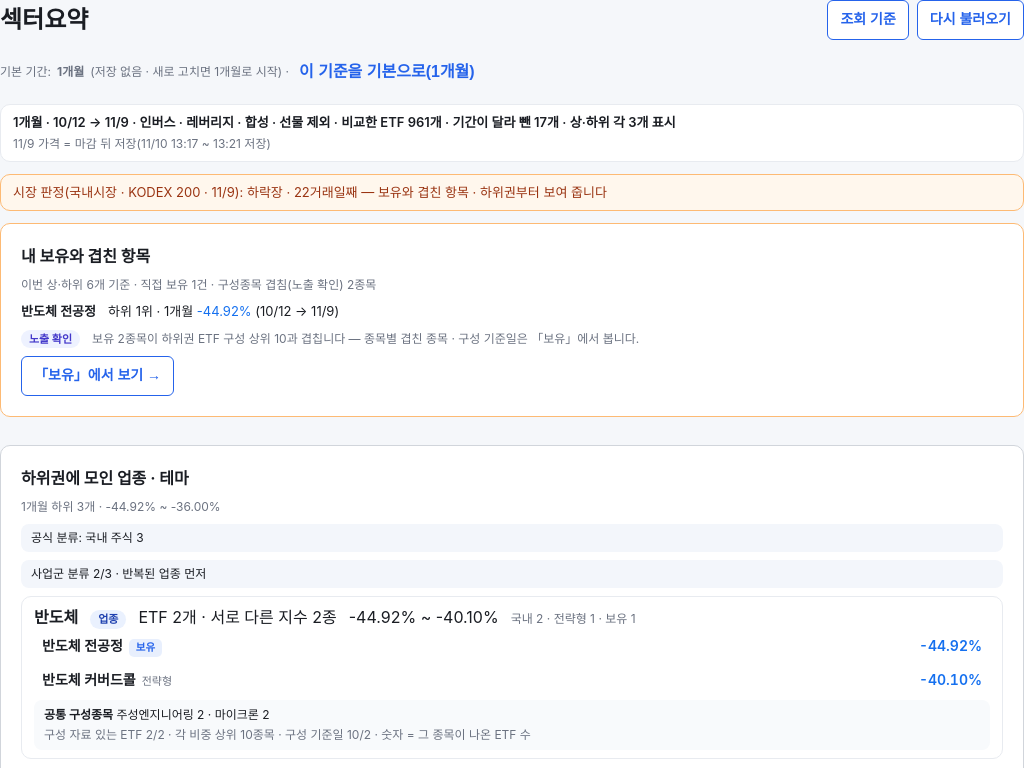
Test: 이 화면의 조회 기준 · 기본 저장(판정 Q1 · Q11) › [이 기준을 기본으로] = 이 화면 저장 칸에만 · 새로 고침(저장소 초기화)하면 그 기간으로 시작
The width and height of the screenshot is (1024, 768).
Click the button "조회 기준" at (868, 20), box left=827, top=0, right=909, bottom=40
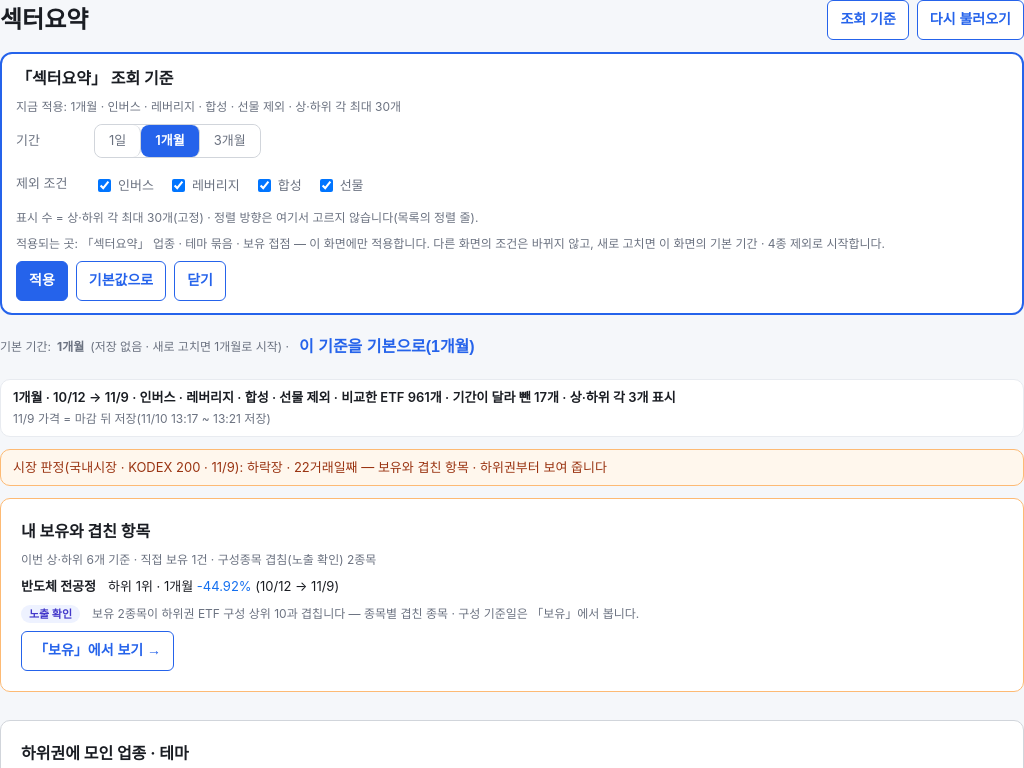
Click the button "3개월" at (230, 141), box left=200, top=125, right=260, bottom=156
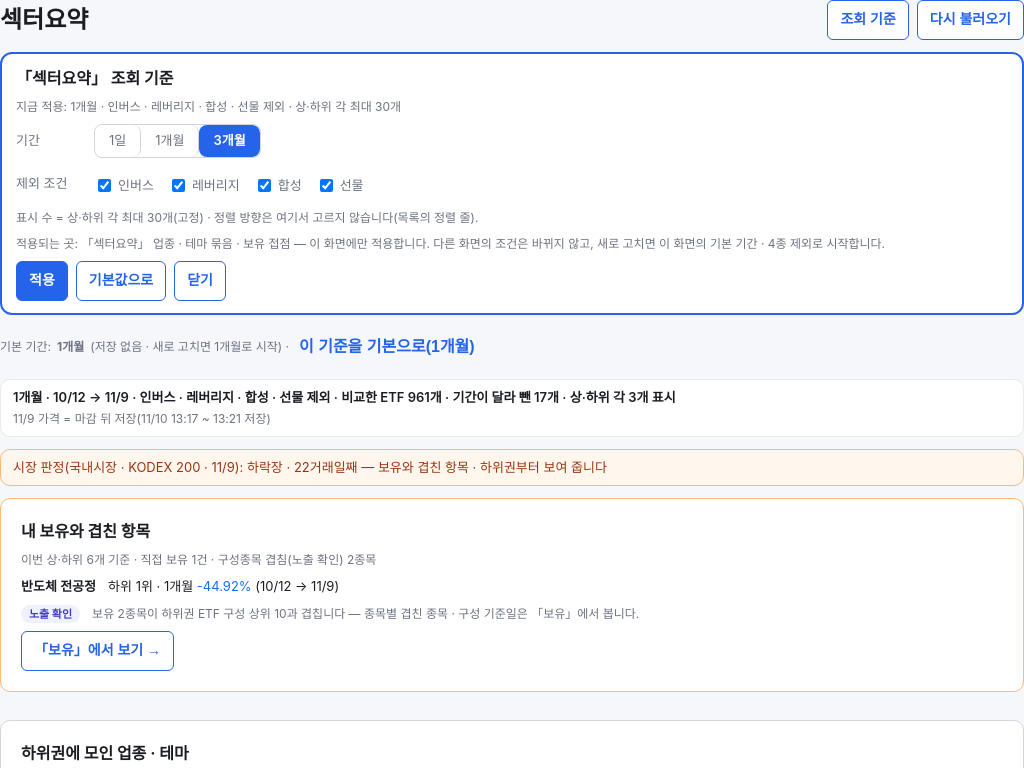
Click the button "적용" at (42, 281), box left=16, top=261, right=68, bottom=301
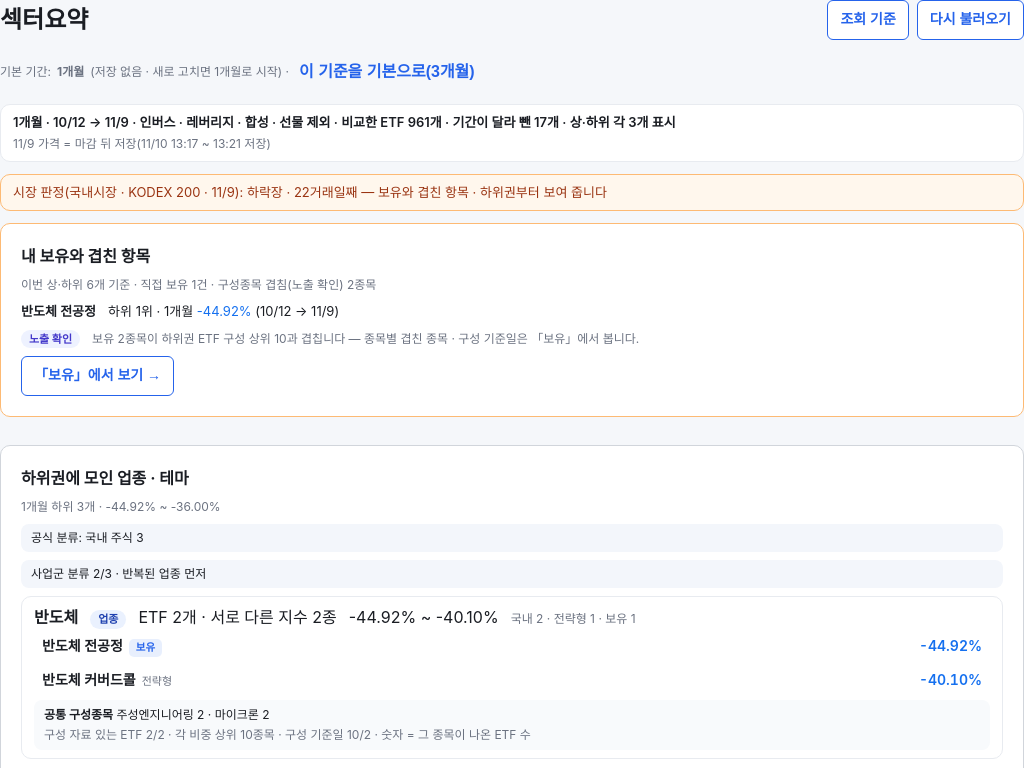
Click the button "이 기준을 기본으로(3개월)" at (387, 72), box left=295, top=56, right=479, bottom=88
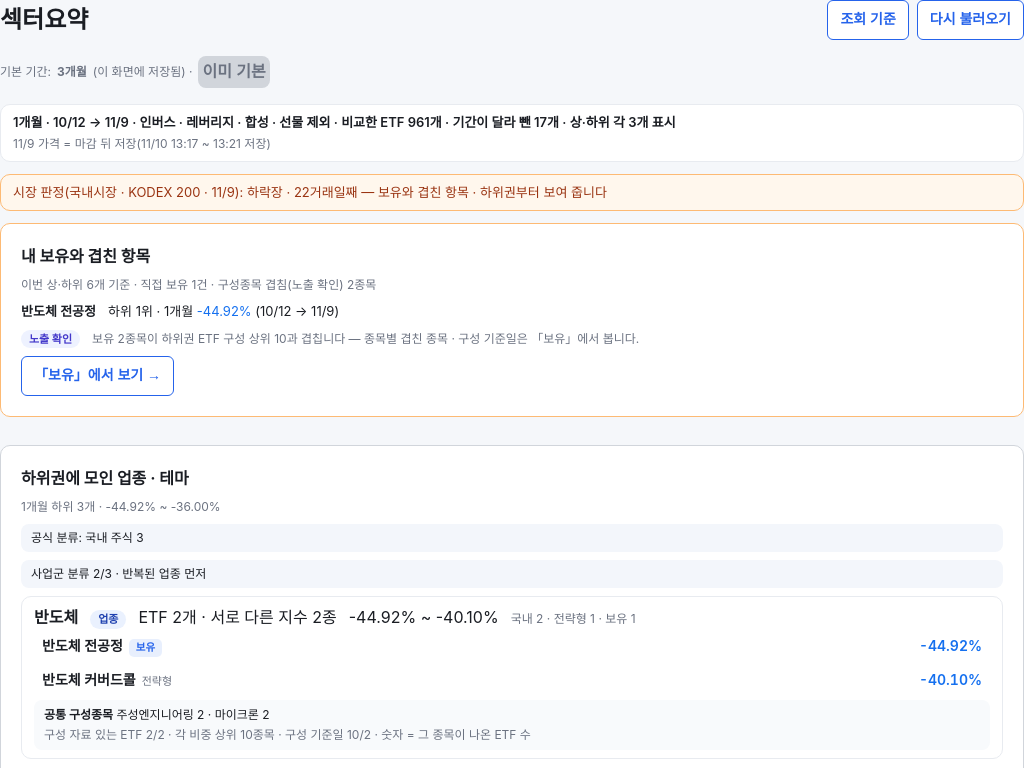
Expected: the element with test id "ec-save-sector" shows "기본 기간: 3개월 (이 화면에 저장됨)", left=0, top=56, right=270, bottom=88
